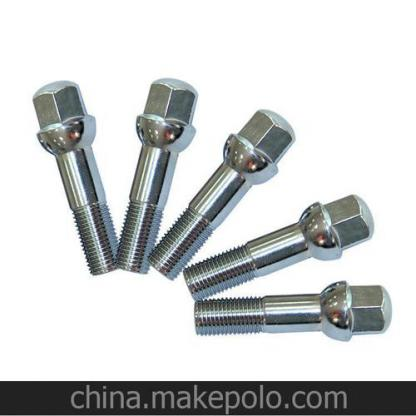FOD: (146, 107, 299, 282), (182, 194, 378, 302), (28, 79, 122, 277), (114, 78, 202, 276), (193, 279, 394, 342)
